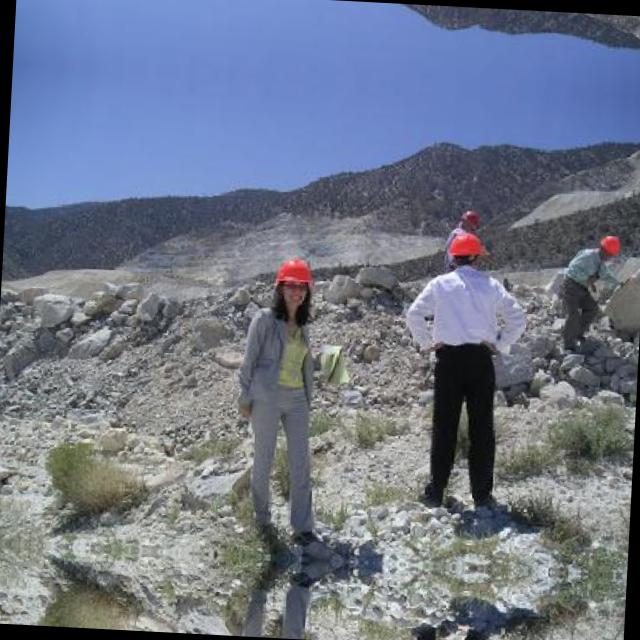helmet: (272, 258, 314, 308), (447, 232, 484, 268), (598, 232, 620, 260), (461, 210, 479, 233)
